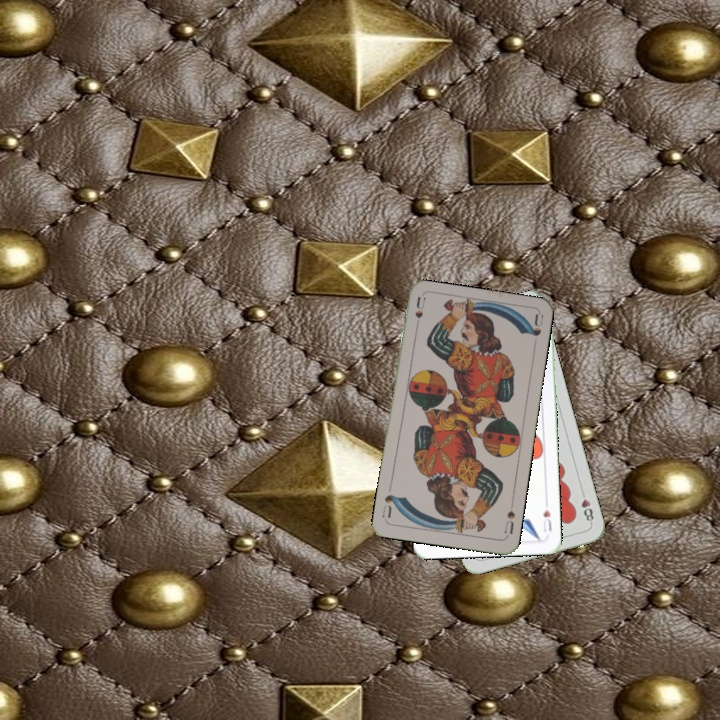H8: (577, 487, 596, 526)
HU: (539, 505, 554, 534)
SU: (411, 294, 428, 335), (500, 499, 517, 536)
